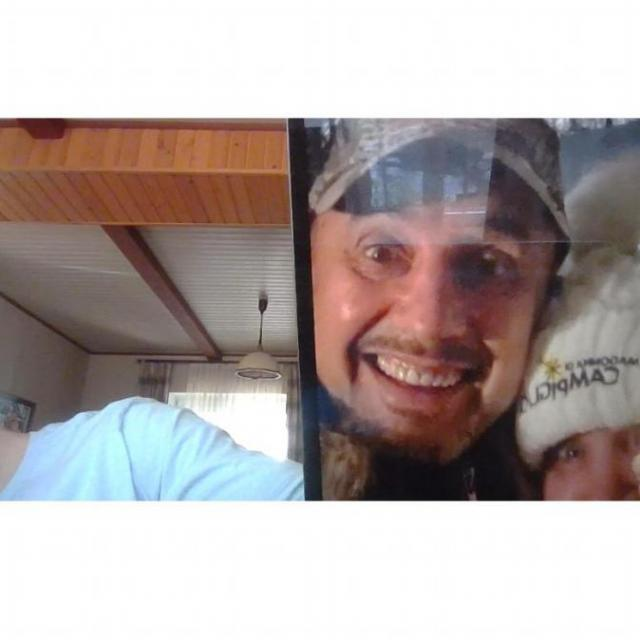device: (291, 117, 640, 501)
